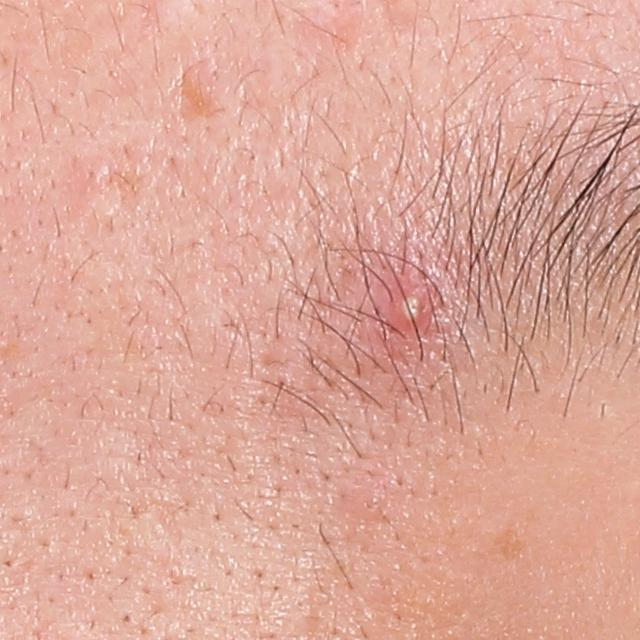atrophic_scar: (167, 60, 215, 131)
pustule: (380, 274, 439, 340)
